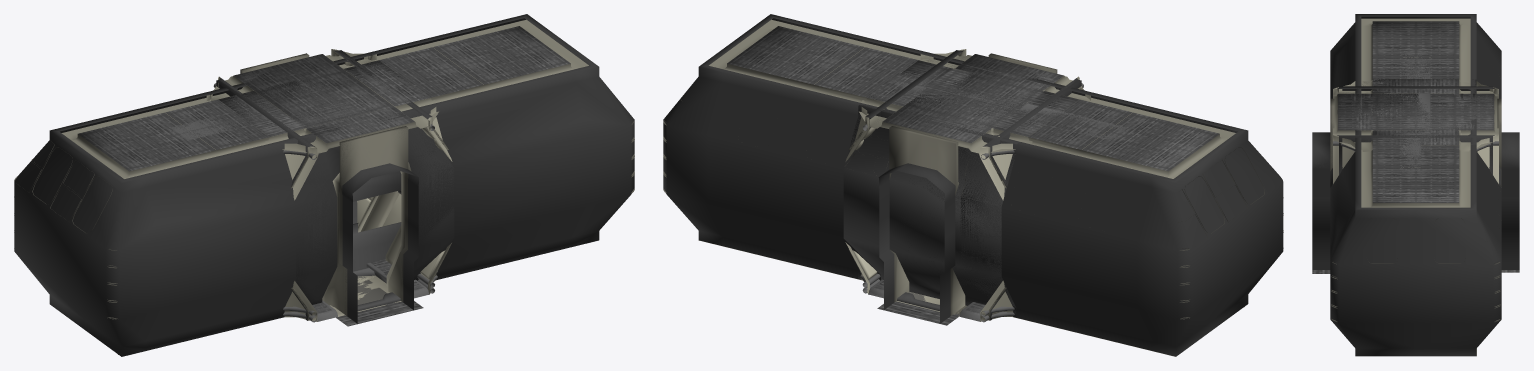
The model's file is HallwayPACK_FBX.fbx.
The picture shows the model from 3 angles, left to right: view 1: azimuth 30°, elevation 25°; view 2: azimuth 150°, elevation 25°; view 3: azimuth 270°, elevation 25°; orthographic projection. The views are drawn at different scales.
Visible parts, largest first — view 1: Room_Long_L, Room_Long_R, Hall_Junction_X, Hall_Light, Room_Small, Hall_End, Hall_Light_Window, Door_Big_R, Hall_Door_Large, Hall_NoLight__90Turn, Hall_NoLight_Window, Hall_Door_SmallOne (+2 smaller); view 2: Room_Long_L, Room_Long_R, Hall_Junction_T, Hall_Door_End, Hall_End, Hall_Junction_X, Hall_Light, Hall_NoLight__90Turn, Hall_Light_Window, Hall_NoLight_Window, Hall_Door_Large; view 3: Room_Long_R, Room_Long_L, Hall_Junction_X, Hall_Light, Hall_Door_Large, Hall_NoLight_Window, Hall_Door_End, Hall_End, Hall_NoLight__90Turn, Hall_Junction_T, Room_Small, Hall_Light_Window.
Part boxes in pixels (x1,y1,x2,y2): Room_Long_L: (14, 59, 454, 356); Room_Long_R: (225, 14, 634, 320); Hall_Junction_X: (211, 49, 452, 322); Hall_Light: (216, 49, 448, 321); Room_Small: (339, 66, 418, 322); Hall_End: (229, 59, 431, 321); Hall_Light_Window: (219, 50, 439, 310); Door_Big_R: (352, 171, 401, 270); Hall_Door_Large: (171, 51, 431, 309); Hall_NoLight__90Turn: (209, 59, 448, 298); Hall_NoLight_Window: (219, 50, 451, 319); Hall_Door_SmallOne: (216, 50, 448, 305); Room_Long_L: (852, 54, 1283, 356); Room_Long_R: (663, 14, 1067, 305); Hall_Junction_T: (844, 63, 1051, 317); Hall_Door_End: (845, 104, 1018, 325); Hall_End: (843, 50, 1072, 298); Hall_Junction_X: (845, 49, 1090, 322); Hall_Light: (848, 50, 1081, 321); Hall_NoLight__90Turn: (883, 51, 1078, 304); Hall_Light_Window: (845, 49, 1077, 311); Hall_NoLight_Window: (866, 49, 1082, 321); Hall_Door_Large: (864, 52, 1125, 312); Room_Long_R: (1312, 88, 1501, 356); Room_Long_L: (1312, 14, 1501, 273); Hall_Junction_X: (1333, 79, 1498, 183); Hall_Light: (1333, 86, 1498, 175); Hall_Door_Large: (1343, 52, 1494, 171); Hall_NoLight_Window: (1334, 88, 1498, 171); Hall_Door_End: (1419, 98, 1519, 272); Hall_End: (1333, 87, 1501, 187); Hall_NoLight__90Turn: (1334, 79, 1472, 142); Hall_Junction_T: (1375, 79, 1500, 186); Room_Small: (1312, 90, 1361, 269); Hall_Light_Window: (1333, 91, 1498, 155).
Size of the model in its own units: 2487 by 782 by 1000.
Materials: 3 (2 with a texture image).
